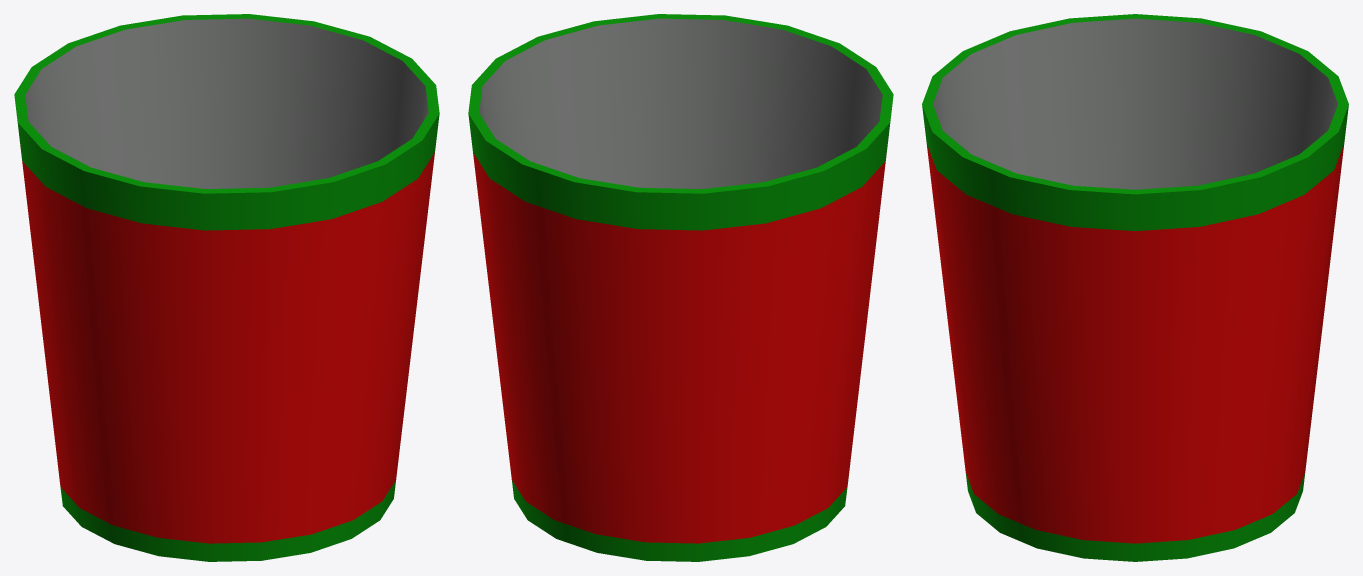
The model's file is Trashcan.fbx.
3 renders of one model, left to right at view 1: azimuth 30°, elevation 25°; view 2: azimuth 150°, elevation 25°; view 3: azimuth 270°, elevation 25°, orthographic.
Parts seen in each view (by area): view 1: Trashcan; view 2: Trashcan; view 3: Trashcan.
Part boxes in pixels (x1,y1,x2,y2): Trashcan: (14, 14, 439, 561); Trashcan: (468, 14, 893, 561); Trashcan: (922, 14, 1348, 561).
Bounding box in the file's own units: 47.06 × 47.06 × 47.06.
